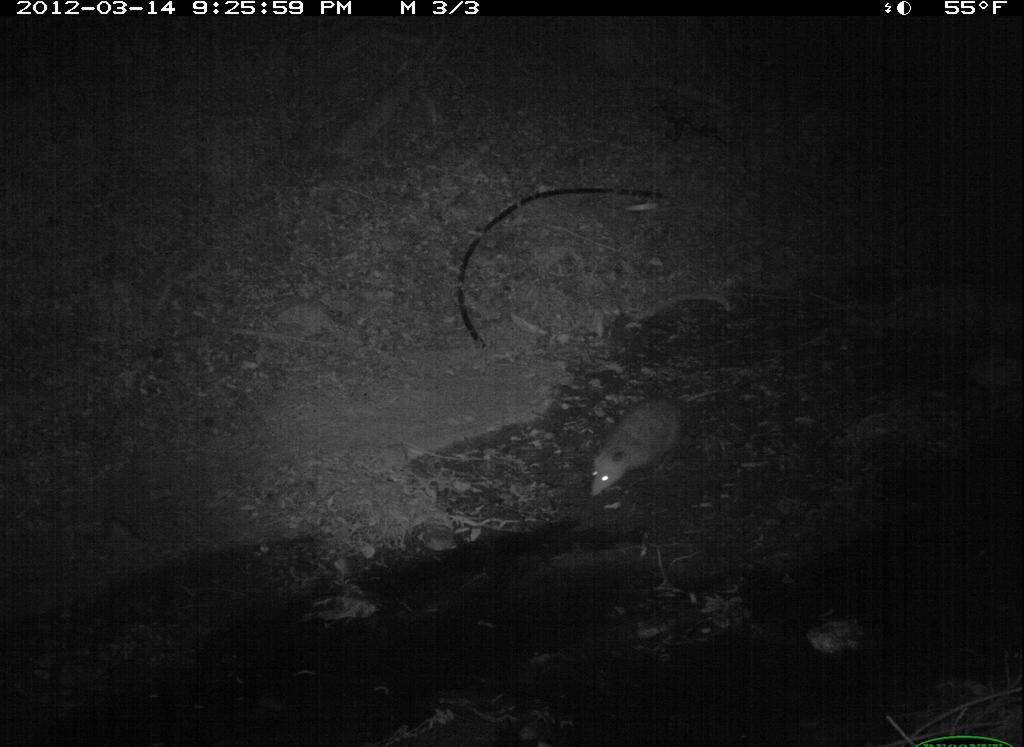opossum: (573, 378, 729, 506)
